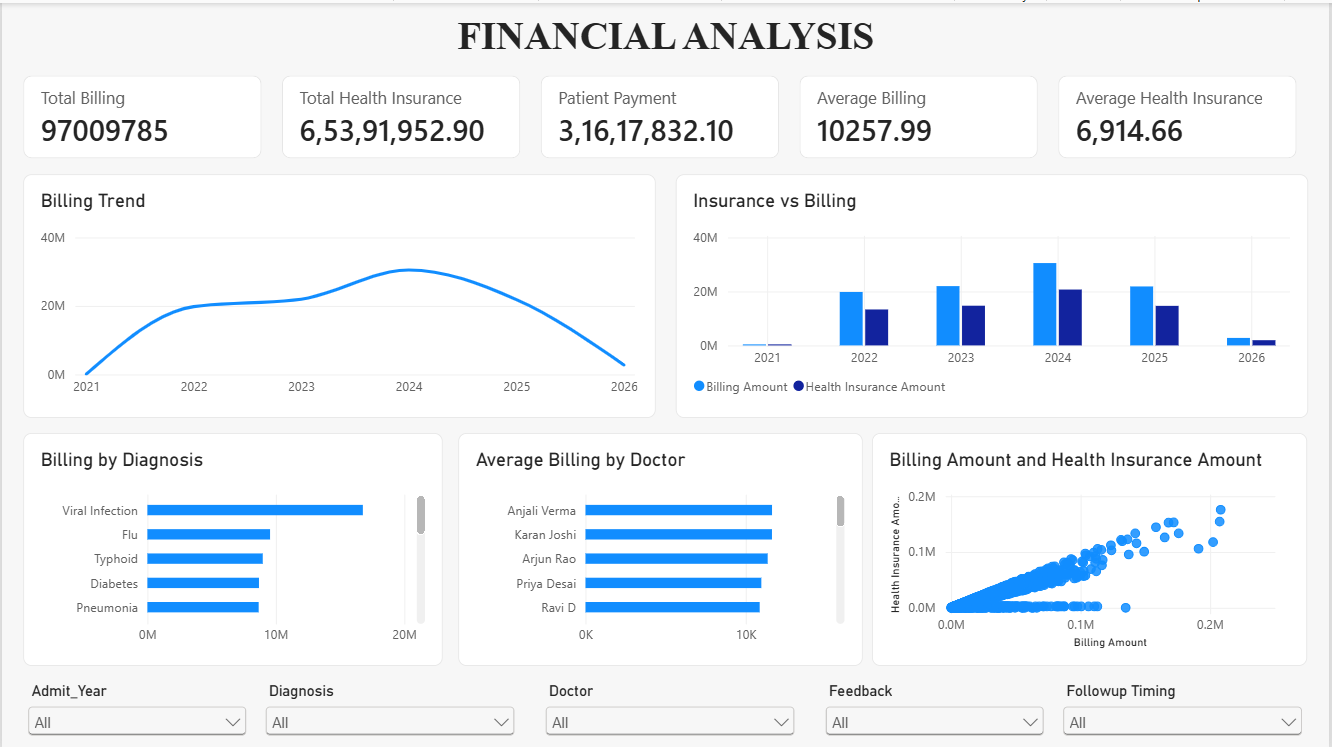

What the dashboard file says about the page in this screenshot:
{"tool":"powerbi","page":{"name":"Financial Analysis","canvas":[1280,720],"ordinal":2},"visuals":[{"type":"textbox","box":[20,10,1240,45],"z":0},{"type":"cardVisual","fields":{"Data":["Sum(Healthcare_Cleaned.Billing Amount)"]},"box":[20,70,230,80],"z":1000},{"type":"cardVisual","fields":{"Data":["Sum(Healthcare_Cleaned.Health Insurance Amount)"]},"box":[270,70,230,80],"z":2000},{"type":"cardVisual","fields":{"Data":["Healthcare_Cleaned.Patient Payment"]},"box":[520,70,230,80],"z":3000},{"type":"cardVisual","fields":{"Data":["Avg(Healthcare_Cleaned.Billing Amount)"]},"box":[770,70,230,80],"z":4000},{"type":"cardVisual","fields":{"Data":["Avg(Healthcare_Cleaned.Health Insurance Amount)"]},"box":[1020,70,230,80],"z":5000},{"type":"lineChart","title":"Billing Trend","fields":{"Category":["Healthcare_Cleaned.Admit_Date.Variation.Date Hierarchy.Year","Healthcare_Cleaned.Admit_Date.Variation.Date Hierarchy.Quarter","Healthcare_Cleaned.Admit_Date.Variation.Date Hierarchy.Month","Healthcare_Cleaned.Admit_Date.Variation.Date Hierarchy.Day"],"Y":["Sum(Healthcare_Cleaned.Billing Amount)"]},"box":[20,165,610,235],"z":6000},{"type":"clusteredColumnChart","title":"Insurance vs Billing","fields":{"Category":["Healthcare_Cleaned.Admit_Year"],"Y":["Sum(Healthcare_Cleaned.Billing Amount)","Sum(Healthcare_Cleaned.Health Insurance Amount)"]},"box":[650,165,610,235],"z":7000},{"type":"clusteredBarChart","title":"Billing by Diagnosis","fields":{"Category":["Healthcare_Cleaned.Diagnosis"],"Y":["Sum(Healthcare_Cleaned.Billing Amount)"]},"box":[20,415,405,225],"z":8000},{"type":"clusteredBarChart","title":"Average Billing by Doctor","fields":{"Category":["Healthcare_Cleaned.Doctor"],"Y":["Avg(Healthcare_Cleaned.Billing Amount)"]},"box":[440,415,390,225],"z":9000},{"type":"scatterChart","fields":{"X":["Healthcare_Cleaned.Billing Amount"],"Y":["Healthcare_Cleaned.Health Insurance Amount"]},"box":[840,415,420,225],"z":10000},{"type":"slicer","fields":{"Values":["Healthcare_Cleaned.Admit_Year"]},"box":[20,655,220,60],"z":11000},{"type":"slicer","fields":{"Values":["Healthcare_Cleaned.Diagnosis"]},"box":[250,655,250,60],"z":12000},{"type":"slicer","fields":{"Values":["Healthcare_Cleaned.Doctor"]},"box":[520,655,250,60],"z":13000},{"type":"slicer","fields":{"Values":["Healthcare_Cleaned.Feedback"]},"box":[790,655,220,60],"z":14000},{"type":"slicer","fields":{"Values":["Healthcare_Cleaned.Followup Timing"]},"box":[1020,655,240,60],"z":15000}]}

Visuals, with their boxes in screenshot pixels (x1, y1, x2, y2), scaled from the page's 1280x720 canvas onto the 1332x747 screenshot:
textbox: rect(21, 10, 1311, 57)
cardVisual - Sum(Healthcare_Cleaned.Billing Amount): rect(21, 73, 260, 156)
cardVisual - Sum(Healthcare_Cleaned.Health Insurance Amount): rect(281, 73, 520, 156)
cardVisual - Healthcare_Cleaned.Patient Payment: rect(541, 73, 780, 156)
cardVisual - Avg(Healthcare_Cleaned.Billing Amount): rect(801, 73, 1041, 156)
cardVisual - Avg(Healthcare_Cleaned.Health Insurance Amount): rect(1061, 73, 1301, 156)
"Billing Trend" lineChart: rect(21, 171, 656, 415)
"Insurance vs Billing" clusteredColumnChart: rect(676, 171, 1311, 415)
"Billing by Diagnosis" clusteredBarChart: rect(21, 431, 442, 664)
"Average Billing by Doctor" clusteredBarChart: rect(458, 431, 864, 664)
scatterChart - Healthcare_Cleaned.Billing Amount x Healthcare_Cleaned.Health Insurance Amount: rect(874, 431, 1311, 664)
slicer - Healthcare_Cleaned.Admit_Year: rect(21, 680, 250, 742)
slicer - Healthcare_Cleaned.Diagnosis: rect(260, 680, 520, 742)
slicer - Healthcare_Cleaned.Doctor: rect(541, 680, 801, 742)
slicer - Healthcare_Cleaned.Feedback: rect(822, 680, 1051, 742)
slicer - Healthcare_Cleaned.Followup Timing: rect(1061, 680, 1311, 742)
